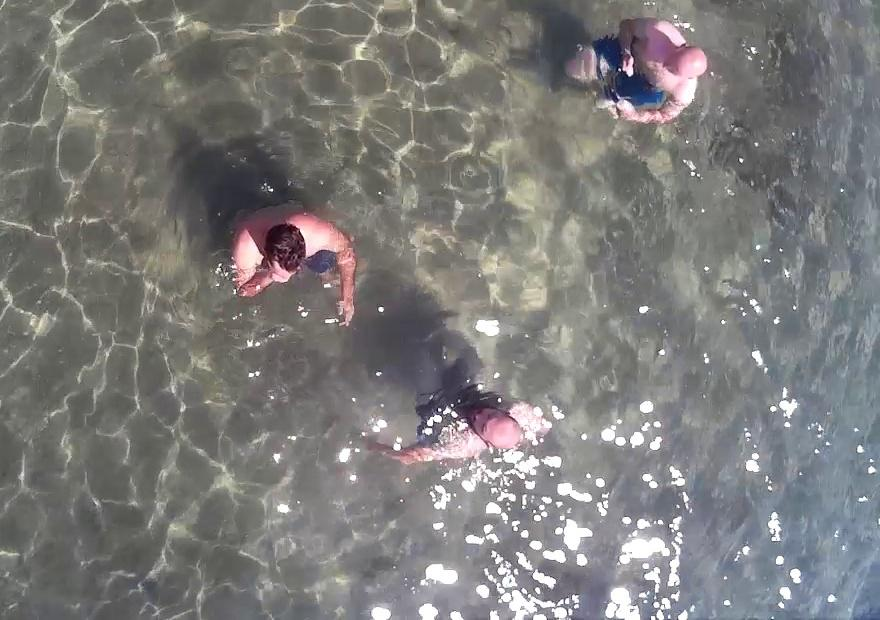swimmer: (212, 175, 363, 340), (367, 351, 556, 476), (562, 0, 705, 143)
